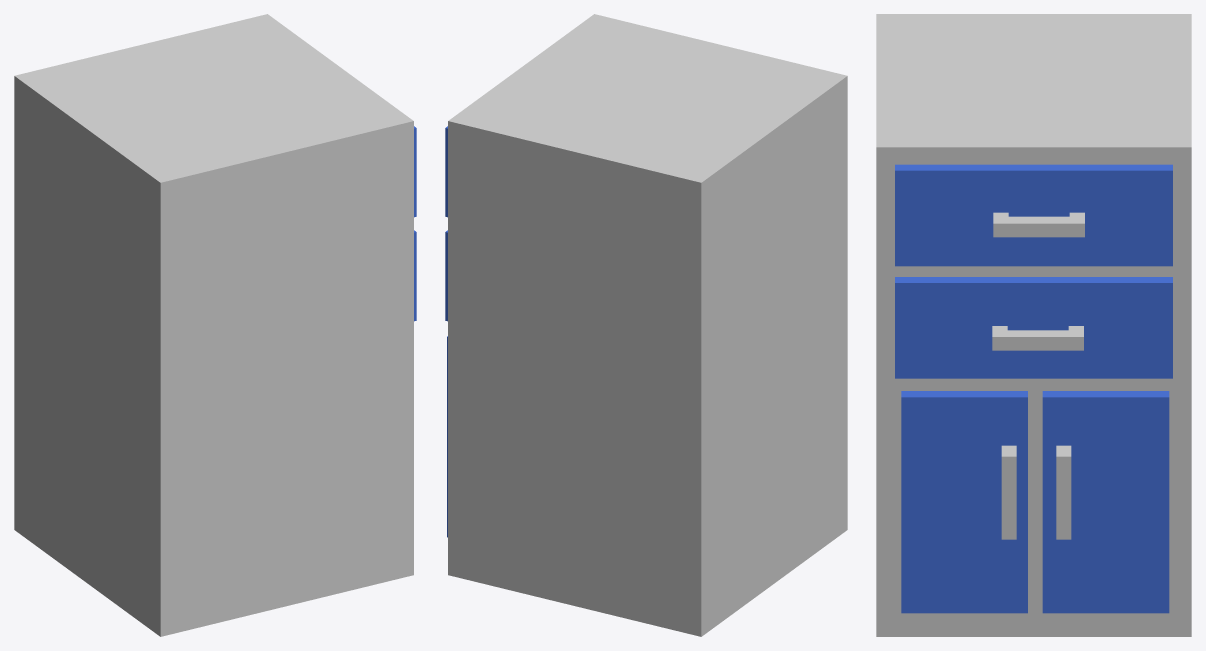
The model's file is drawer.fbx.
3 views of the same model, side by side, from view 1: azimuth 30°, elevation 25°; view 2: azimuth 150°, elevation 25°; view 3: azimuth 270°, elevation 25° (orthographic). The views are drawn at different scales.
Parts seen in each view (by area): view 1: Cube; view 2: Cube; view 3: Cube.
Part boxes in pixels (x1=…): Cube: x1=14, y1=14, x2=416, y2=636; Cube: x1=445, y1=14, x2=847, y2=636; Cube: x1=876, y1=14, x2=1191, y2=636.
Size of the model in its own units: 520 by 789 by 461.
